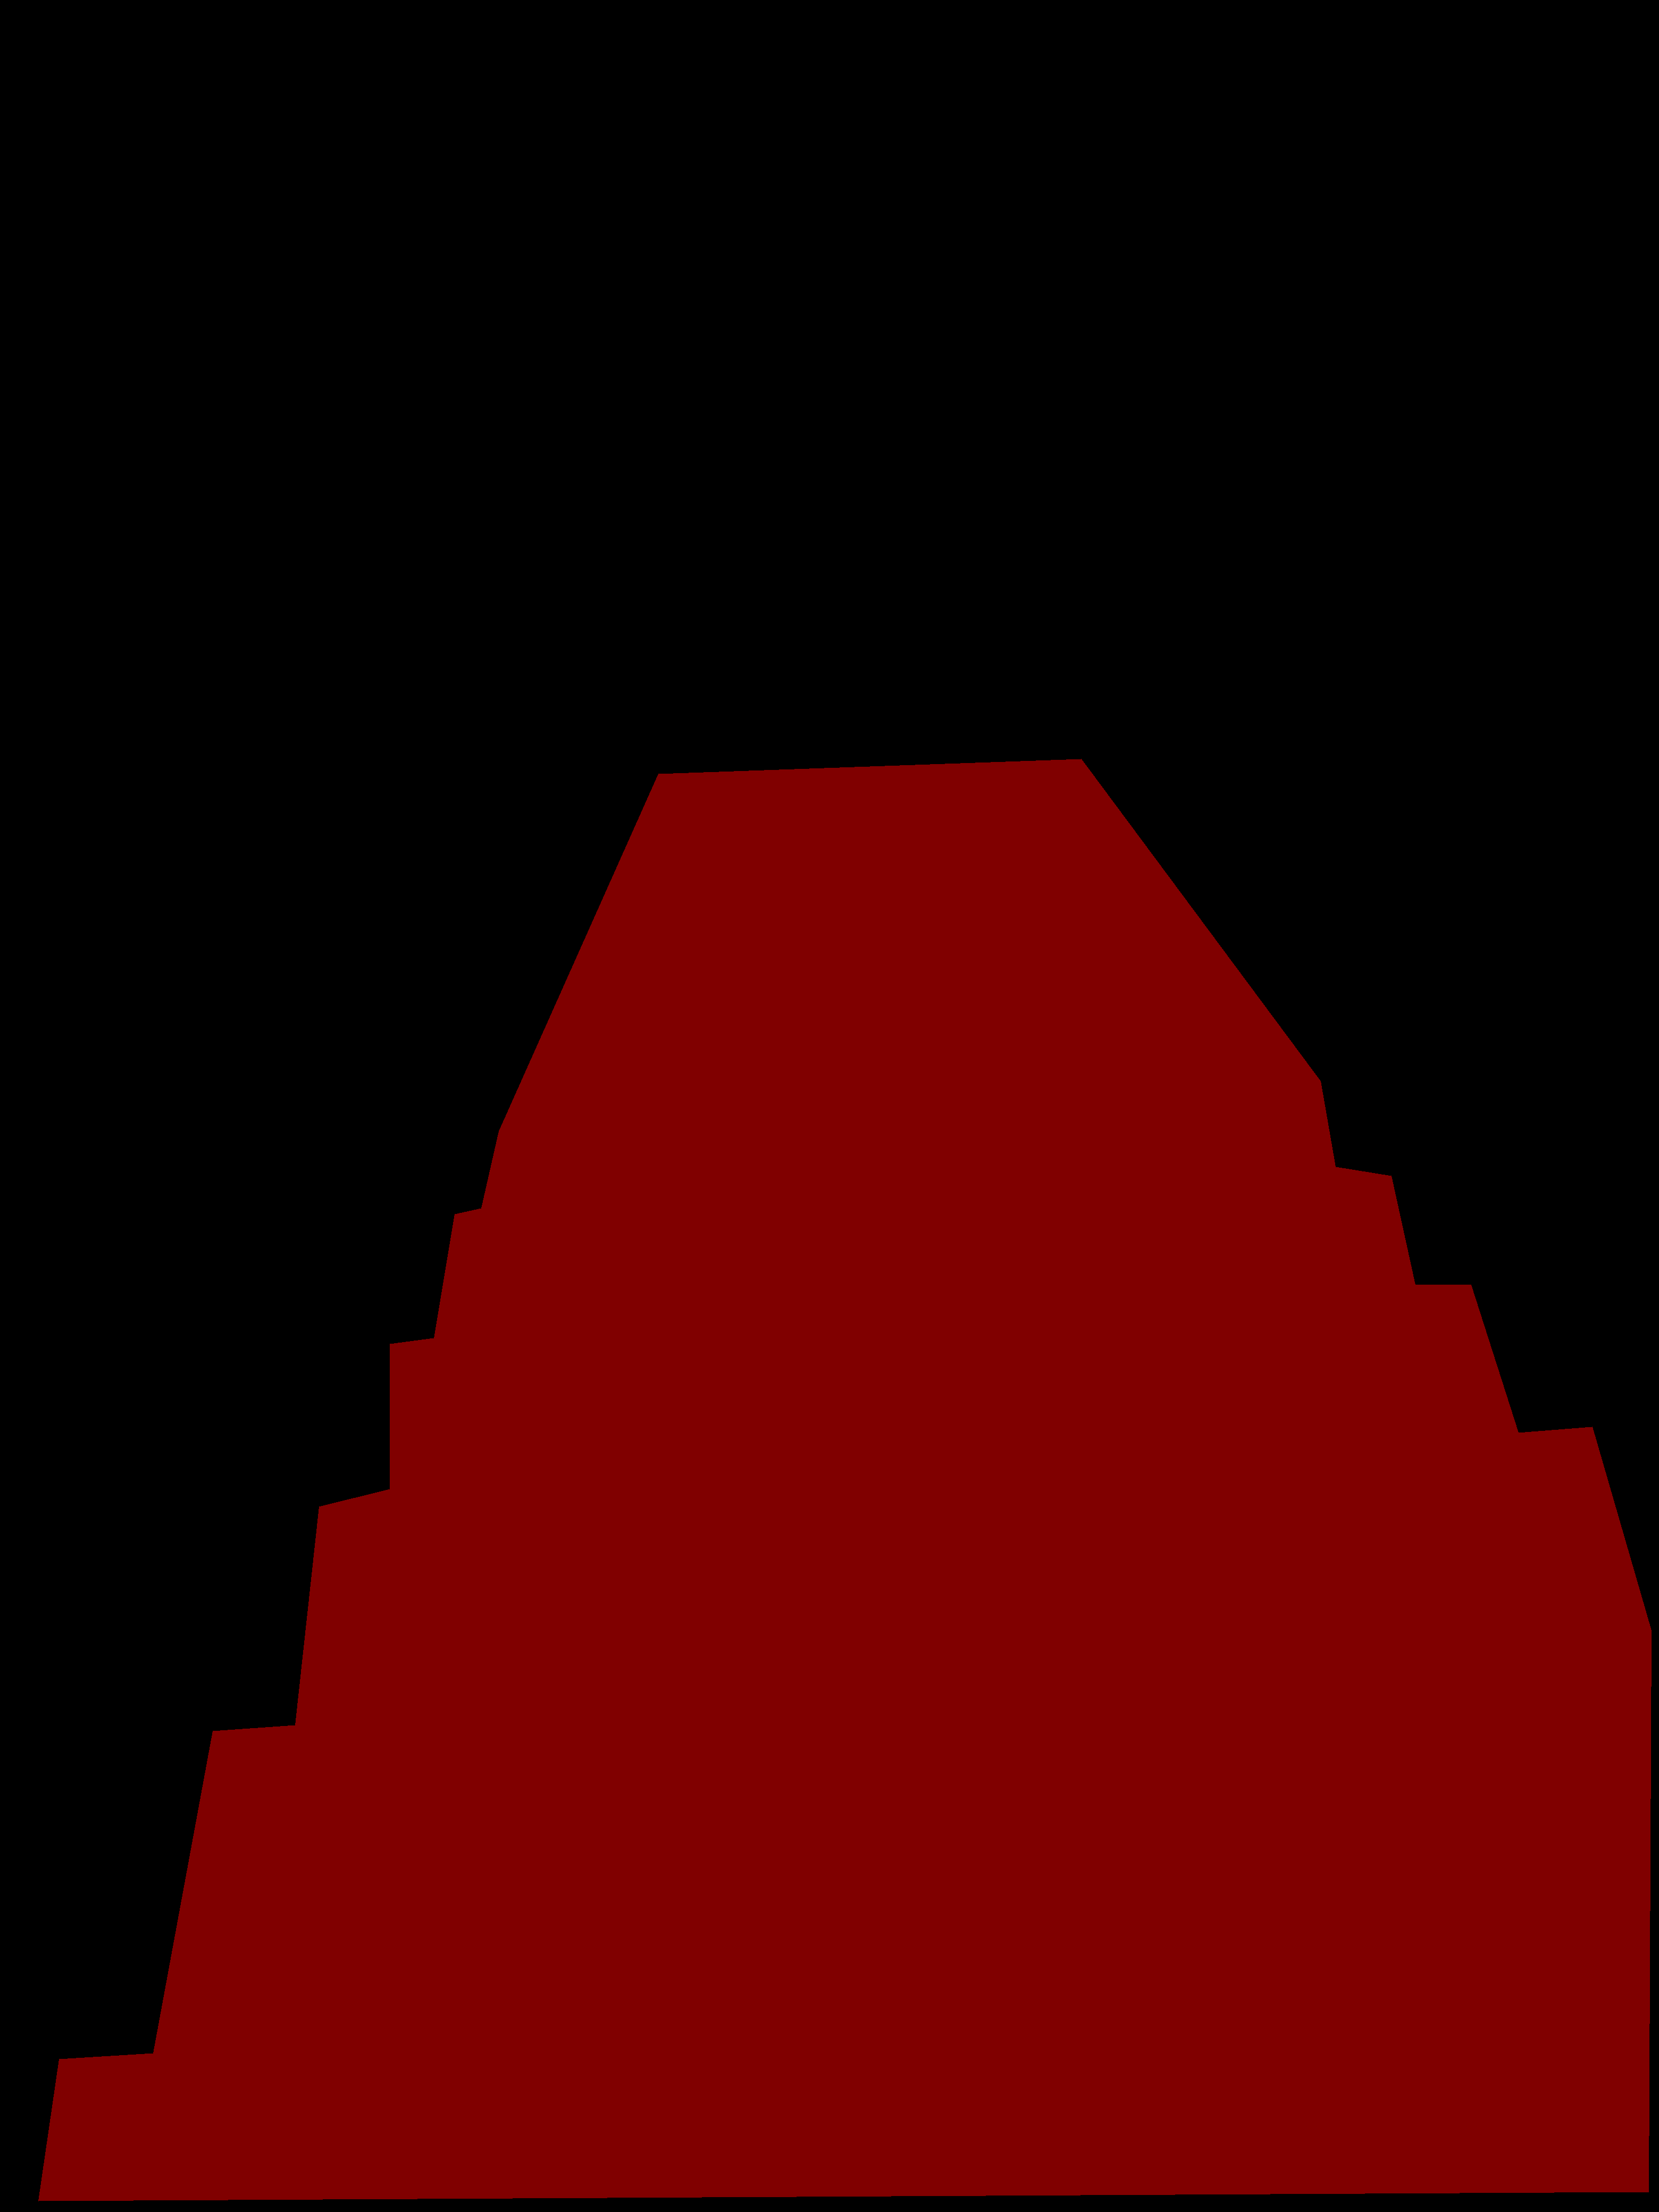stair: (38, 759, 1650, 2202)
